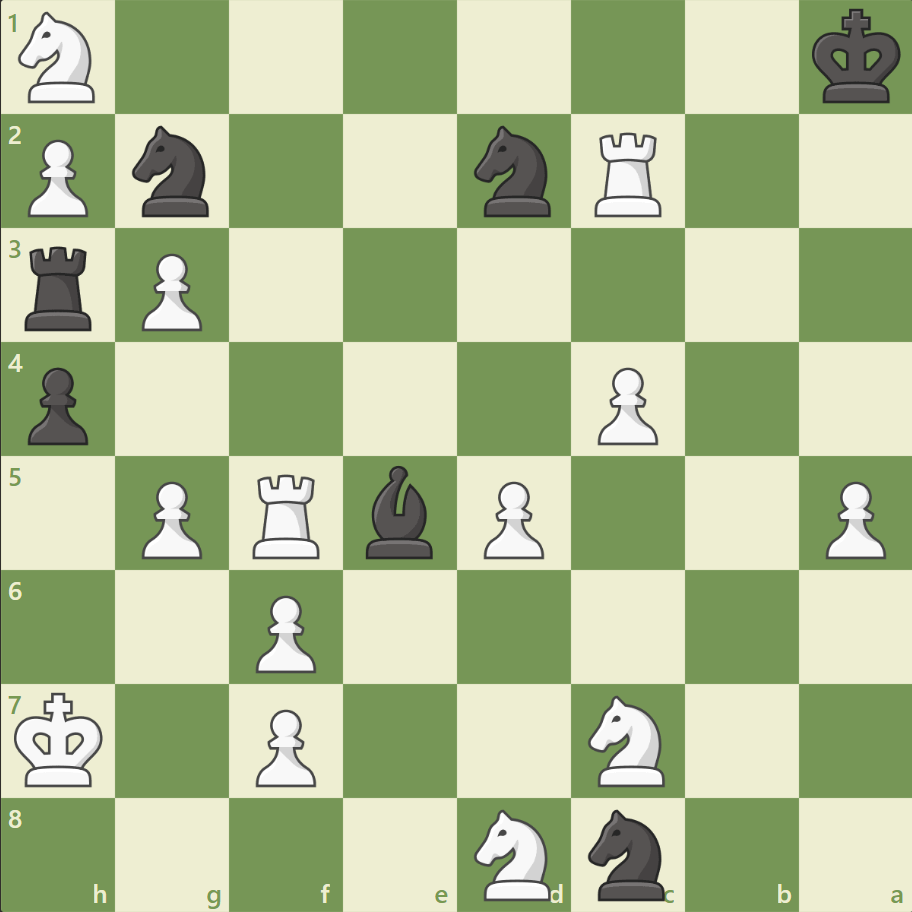K: (11, 685, 111, 793)
N: (579, 688, 676, 791), (11, 7, 108, 110), (465, 802, 562, 904)
P: (247, 700, 322, 791), (247, 586, 322, 677), (474, 473, 549, 564), (133, 473, 208, 564), (133, 246, 208, 337), (20, 132, 95, 223), (815, 473, 889, 564), (588, 359, 662, 450)
R: (246, 466, 329, 563), (587, 125, 670, 222)
b: (358, 460, 442, 563)
k: (806, 4, 906, 112)
n: (124, 121, 222, 223), (579, 802, 676, 904), (465, 121, 562, 223)
p: (20, 359, 95, 450)
r: (19, 239, 102, 336)
